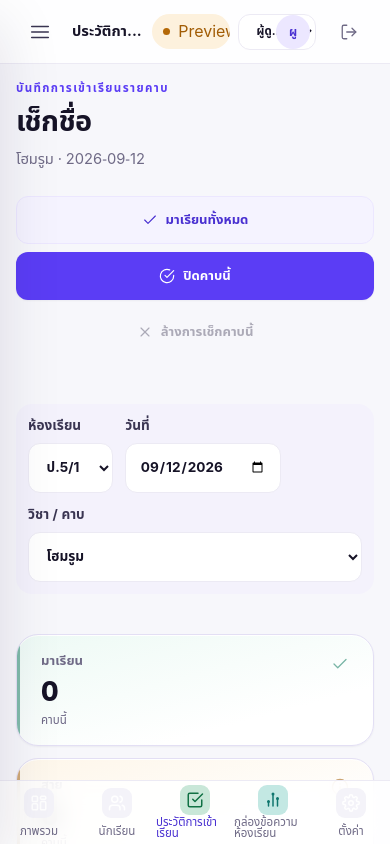
Test case: the confirmation a screen raises › lands in the one shared surface, wherever it was raised from
Expected: the heading "เช็กชื่อ" is shown, [16, 100, 92, 144]
What coordinates should you click on to do the following:
click the button "มาเรียนทั้งหมด"
I would click on:
 (195, 220)
Its box is [16, 196, 374, 244].
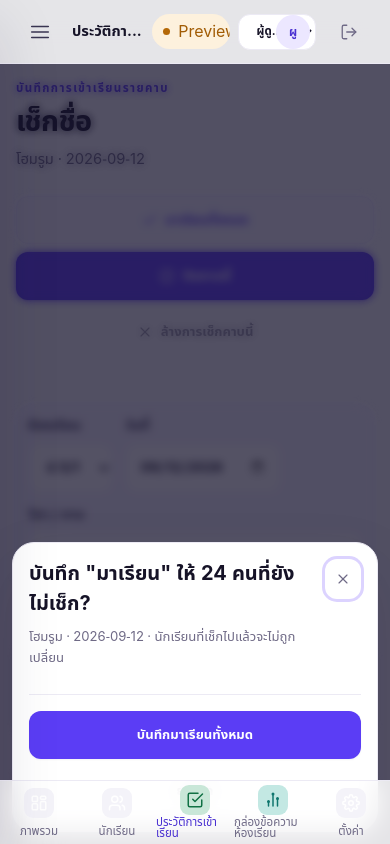
What coordinates should you click on to do the following:
click the button "บันทึกมาเรียนทั้งหมด"
I would click on:
 (195, 735)
Its box is [29, 711, 361, 759].
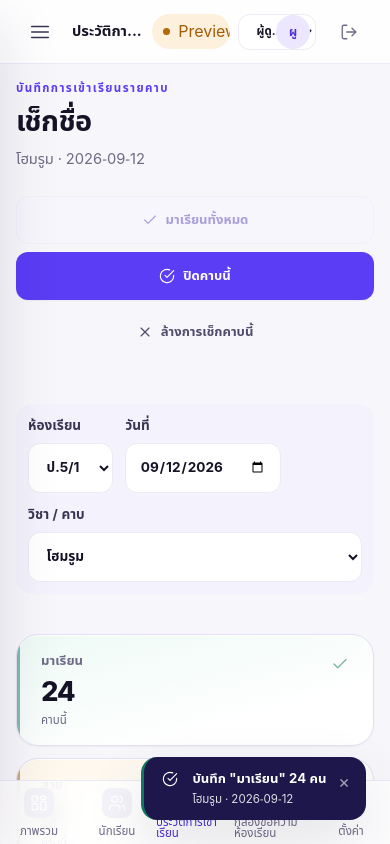
Now the number of messages with class "ui-toast" is 1, box [141, 757, 366, 820]
Now the number of elements with class "ui-toast-container" is 1, box [141, 757, 366, 820]
